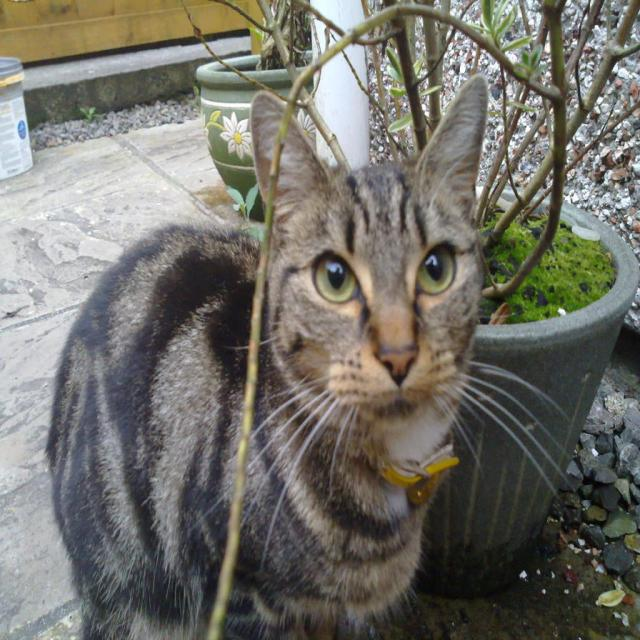Cat: (48, 71, 573, 638)
